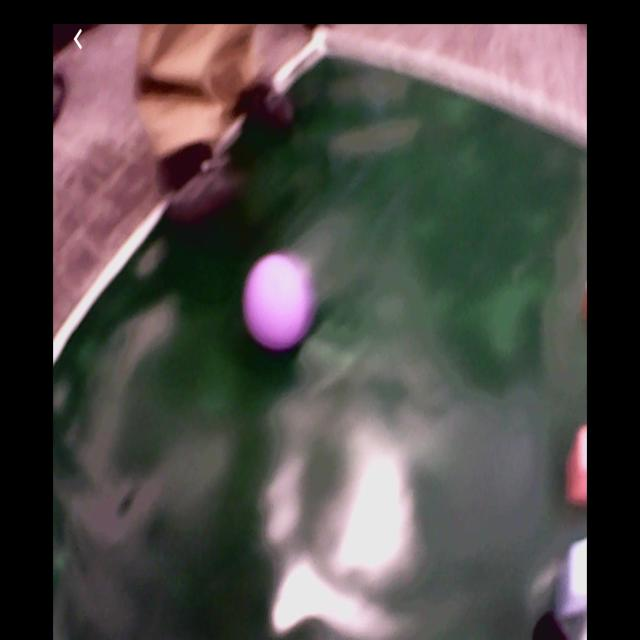ball: (242, 253, 311, 350)
